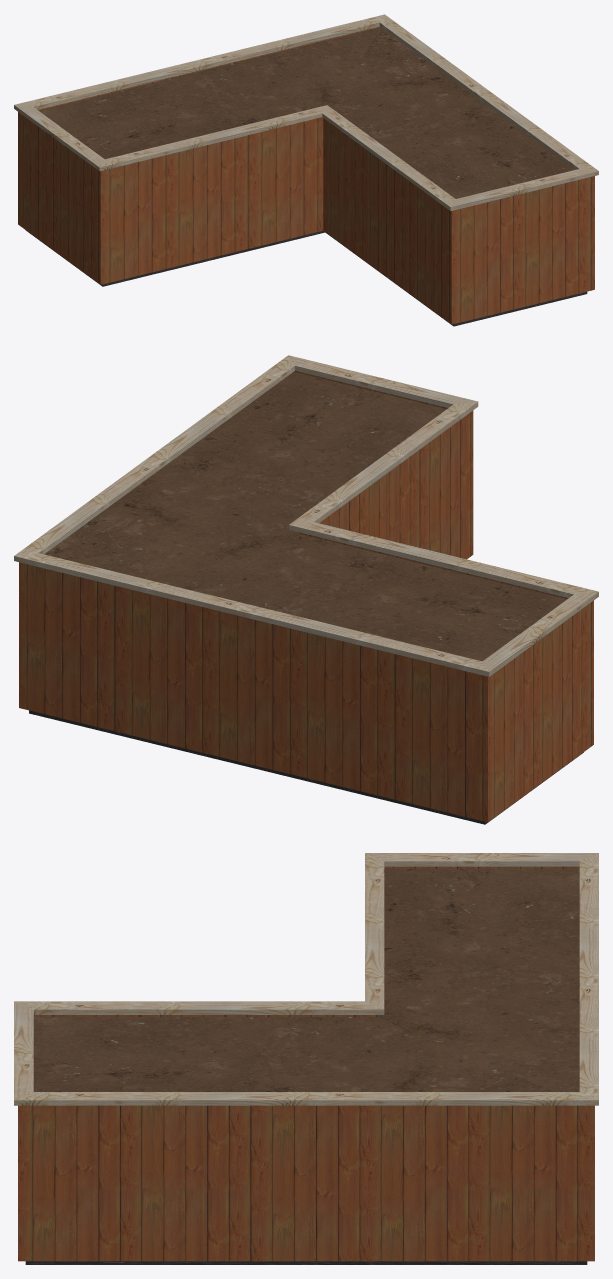
The model's file is GardenPlanter01_5.FBX.
The picture shows the model from 3 angles, top to bottom: view 1: azimuth 30°, elevation 25°; view 2: azimuth 150°, elevation 25°; view 3: azimuth 270°, elevation 25°; orthographic projection. The views are drawn at different scales.
Visible parts, largest first — view 1: GardenPlanter01_5; view 2: GardenPlanter01_5; view 3: GardenPlanter01_5.
Part boxes in pixels (bbox=[...]): GardenPlanter01_5: bbox=[14, 14, 598, 326]; GardenPlanter01_5: bbox=[14, 355, 598, 824]; GardenPlanter01_5: bbox=[14, 853, 598, 1264].
Size of what is drawn, in the model's own units: 1.5 by 0.48 by 1.5.
